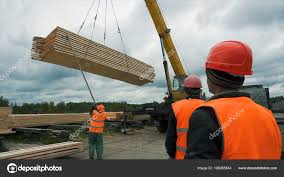helmet: (210, 41, 253, 75), (183, 74, 201, 89)
vest: (209, 99, 283, 159), (172, 102, 190, 161), (91, 112, 106, 133)
